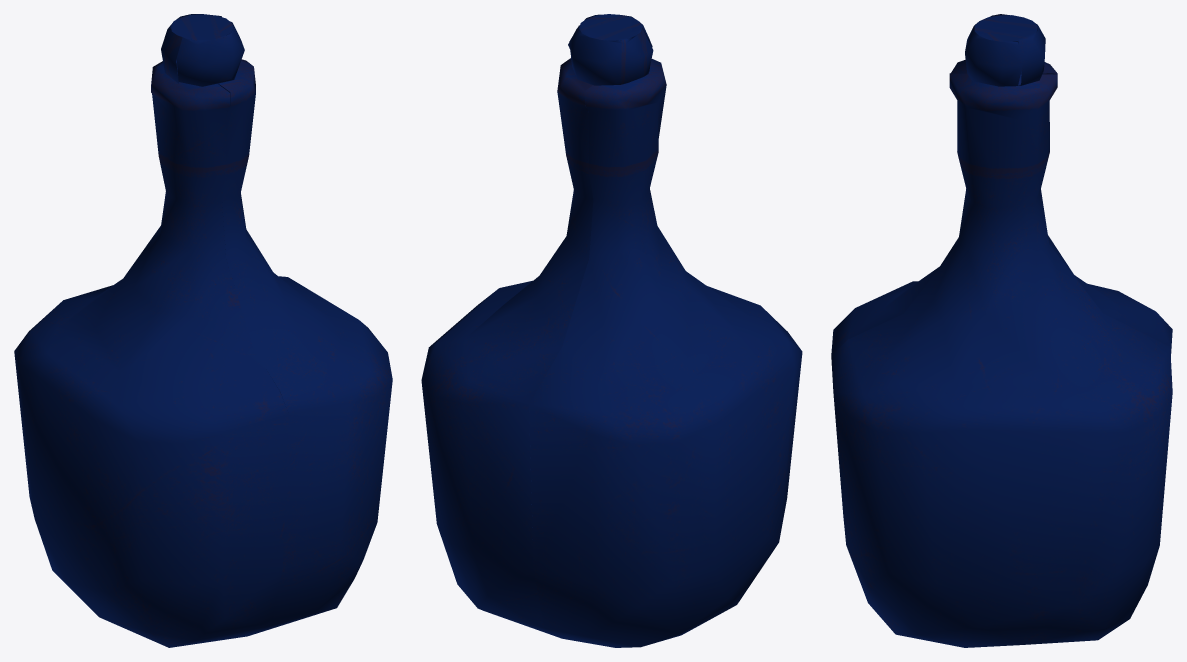
Rendered from pozione_media.fbx.
The picture shows the model from 3 angles, left to right: view 1: azimuth 30°, elevation 25°; view 2: azimuth 150°, elevation 25°; view 3: azimuth 270°, elevation 25°; orthographic projection.
Visible parts, largest first — view 1: PotionA; view 2: PotionA; view 3: PotionA.
Part boxes in pixels (x1,y1,x2,y2): PotionA: (14, 14, 392, 647); PotionA: (421, 14, 802, 647); PotionA: (831, 14, 1172, 647).
Bounding box in the file's own units: 1378 × 2549 × 1353.
Materials: 2 (2 with a texture image).
